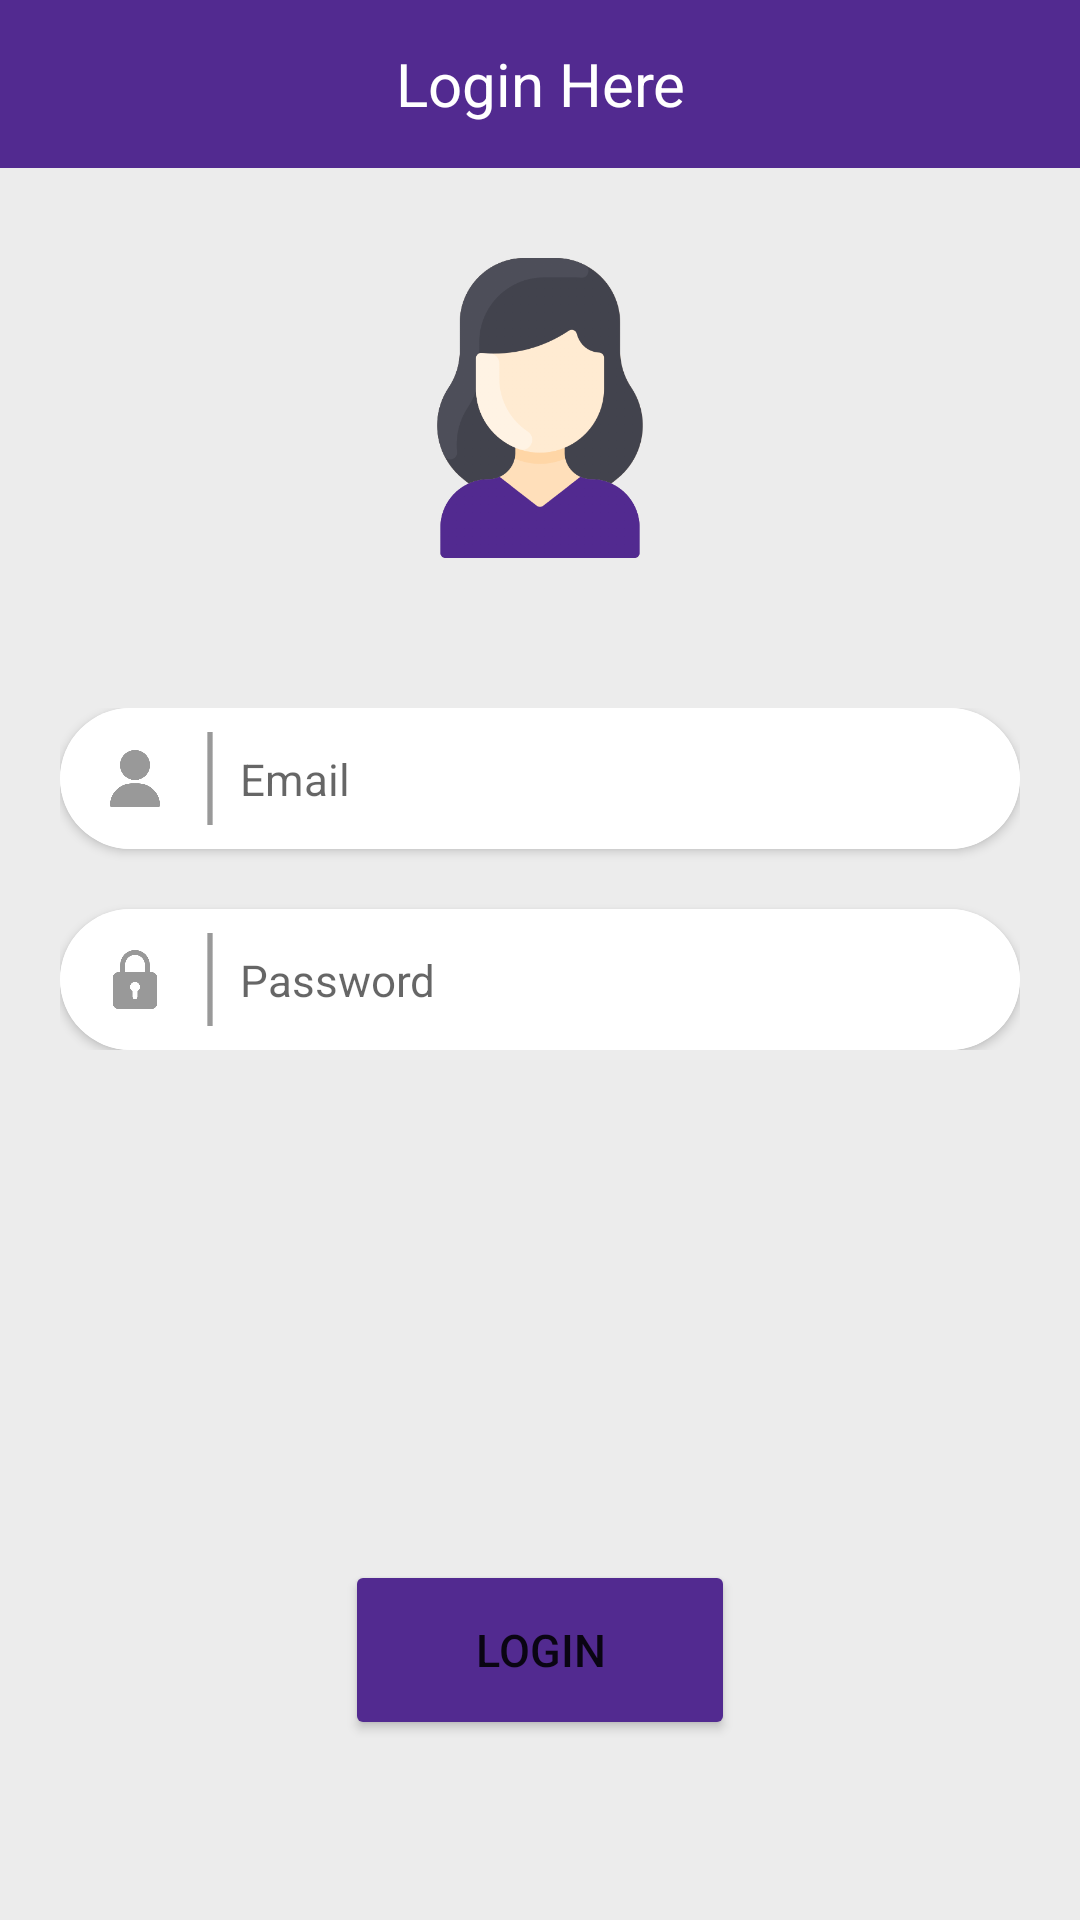

Named icons in this screenshot (1080px×1920px) and their bounding boxes, (x1, y1, x2, y2):
profile: (437, 258, 643, 558)
